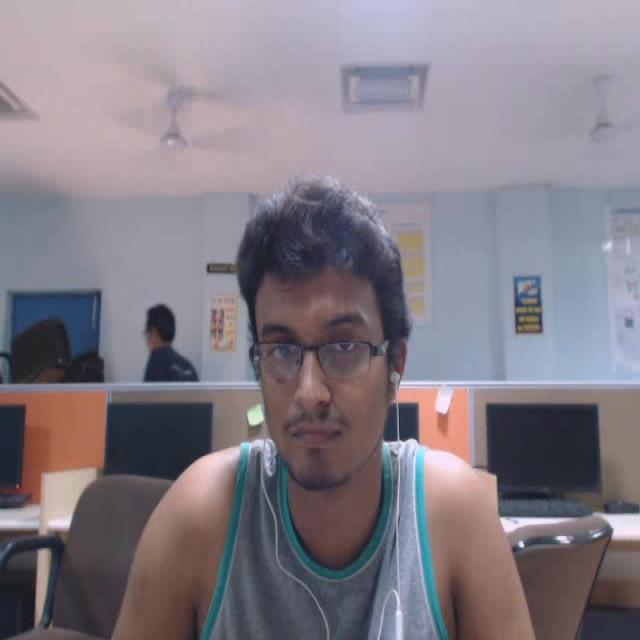Engaged: (221, 154, 434, 523)
